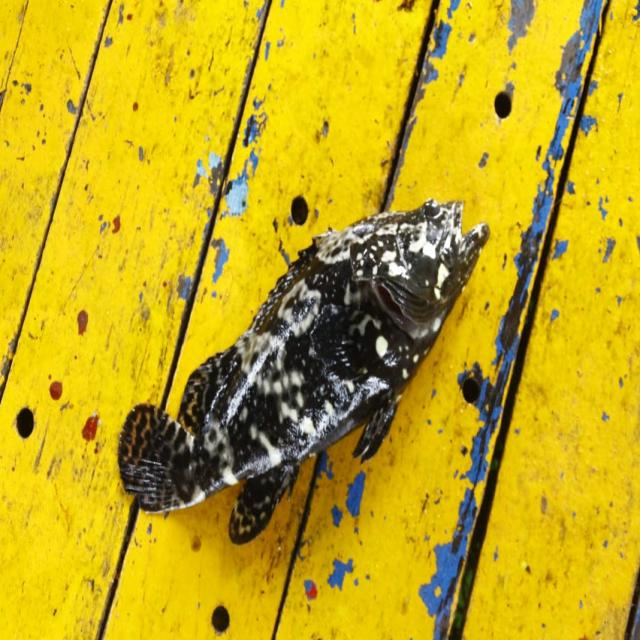ikan: (109, 182, 501, 541)
